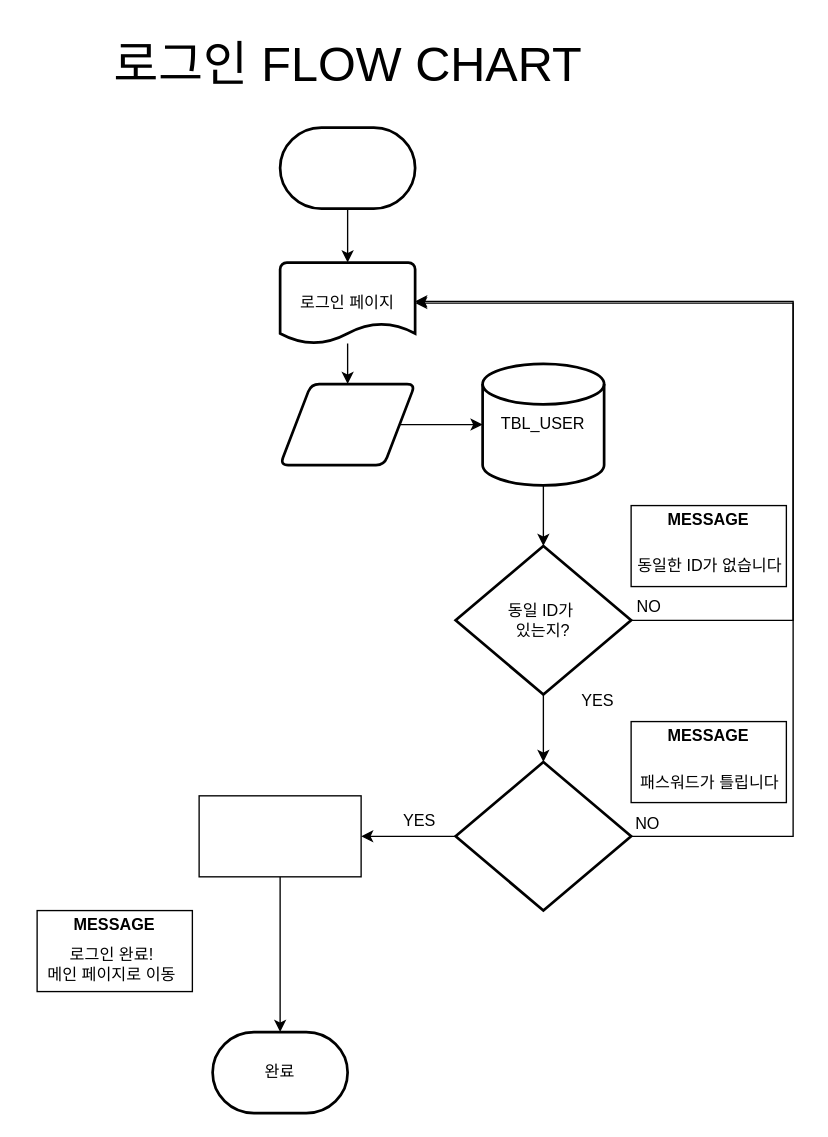
The diagram is 828 pixels wide and 1137 high, and some of its shapes have lost their labels. The centre of each missing label's shape, as x and y in pixels:
ID/PW 입력: (x=347, y=424)
PW가 일치하는지?: (x=543, y=835)
로그인 처리: (x=279, y=835)
시작: (x=347, y=167)
